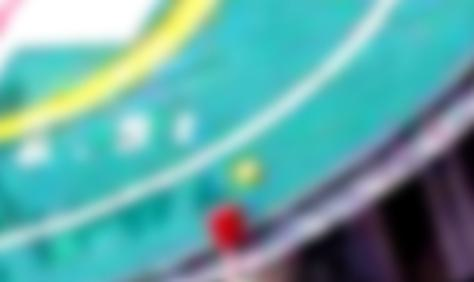Apron: (1, 1, 219, 137)
